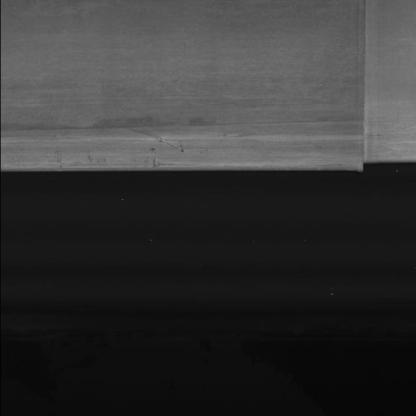welding_line: (342, 1, 378, 184)
